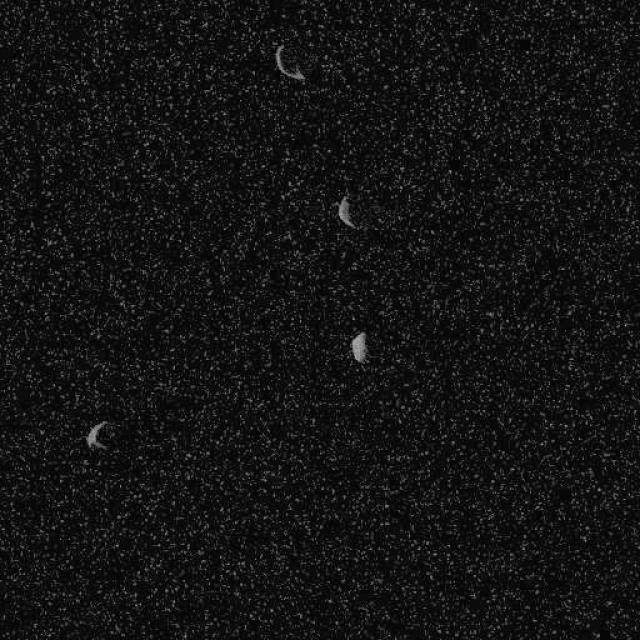D2: (272, 42, 306, 82), (85, 419, 109, 450), (335, 194, 356, 228), (350, 330, 369, 364)
